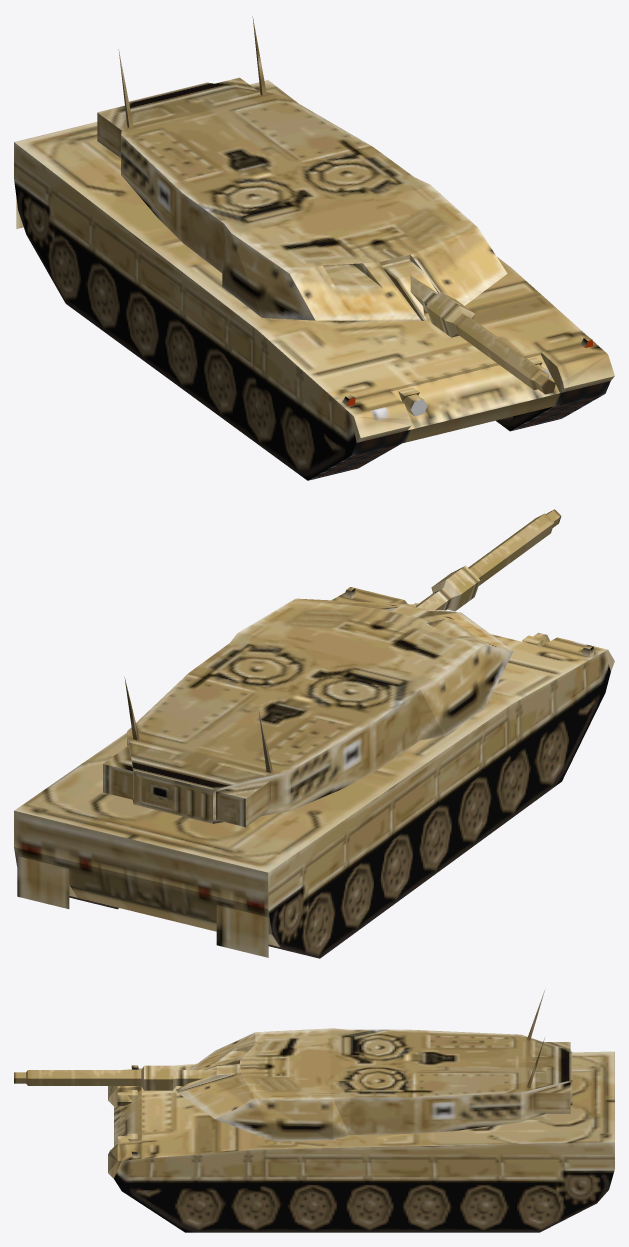
The model's file is Leopard_1.dae.
3 renders of one model, top to bottom at view 1: azimuth 30°, elevation 25°; view 2: azimuth 150°, elevation 25°; view 3: azimuth 270°, elevation 25°, orthographic. The views are drawn at different scales.
Visible parts, largest first — view 1: Hull, Turret, Barrel; view 2: Hull, Turret, Barrel; view 3: Hull, Turret, Barrel.
Part boxes in pixels (x1,y1,x2,y2): Hull: [14, 80, 614, 480]; Turret: [97, 16, 507, 320]; Barrel: [409, 275, 555, 394]; Hull: [14, 587, 614, 958]; Turret: [103, 598, 513, 827]; Barrel: [415, 509, 561, 611]; Hull: [108, 1051, 614, 1232]; Turret: [176, 990, 572, 1141]; Barrel: [14, 1065, 218, 1090].
Size of the model in its own units: 1.09 by 3.05 by 0.9813.
Materials: 3 (3 with a texture image).
